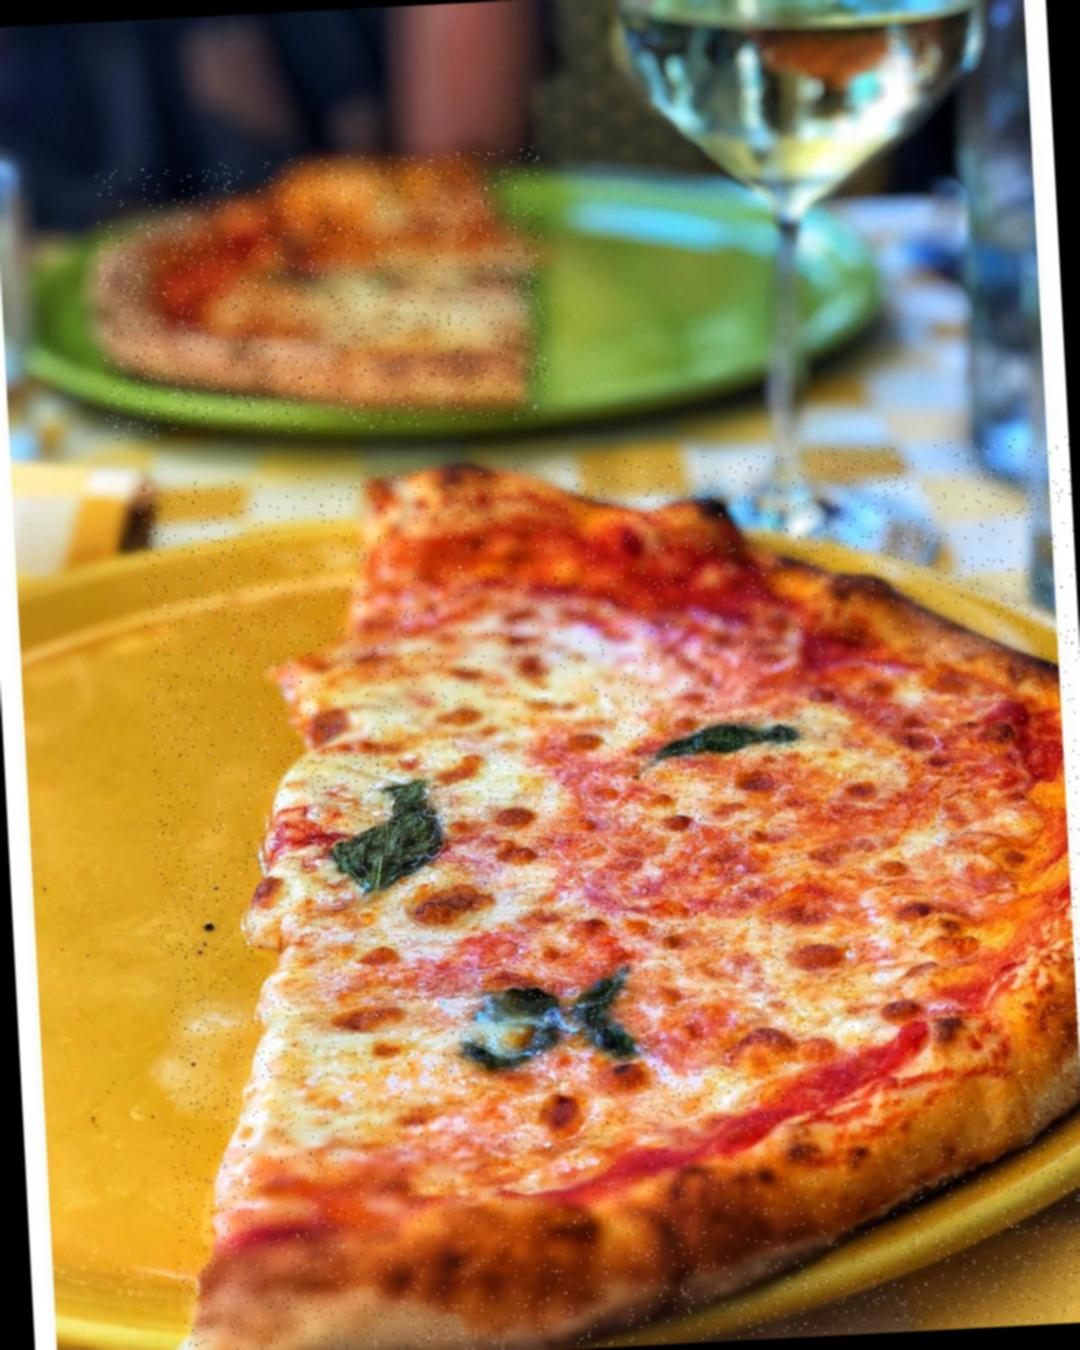Basil: (432, 958, 670, 1091), (307, 742, 463, 900), (637, 706, 820, 785)
Pizza: (136, 436, 1080, 1350), (94, 147, 552, 442)
